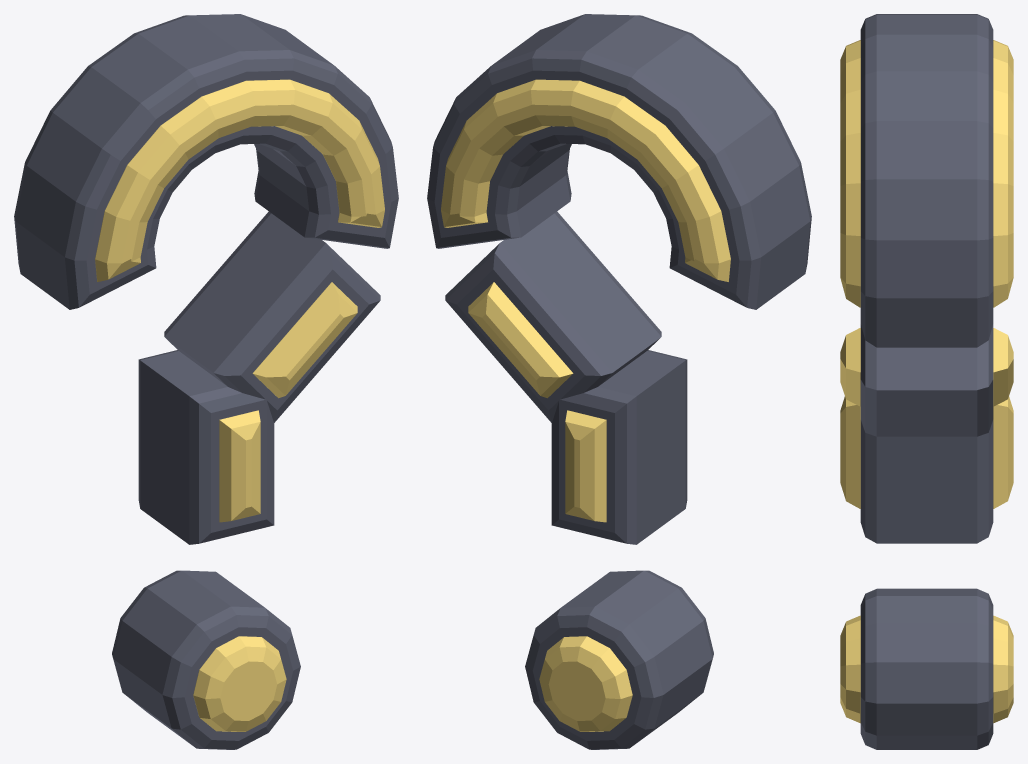
File: game-ui-icon-library-quest-complete-question-a335d5c5__19039.glb
The picture shows the model from 3 angles, left to right: view 1: azimuth 30°, elevation 25°; view 2: azimuth 150°, elevation 25°; view 3: azimuth 270°, elevation 25°; orthographic projection. The views are drawn at different scales.
Parts seen in each view (by area): view 1: quest-complete-question; view 2: quest-complete-question; view 3: quest-complete-question.
Boxes of the visible parts, box(x1,y1,x2,y2) form: quest-complete-question: box(14, 14, 398, 749); quest-complete-question: box(427, 14, 811, 749); quest-complete-question: box(840, 14, 1013, 749).
Bounding box in the file's own units: 0.4696 × 0.94 × 0.2074.
